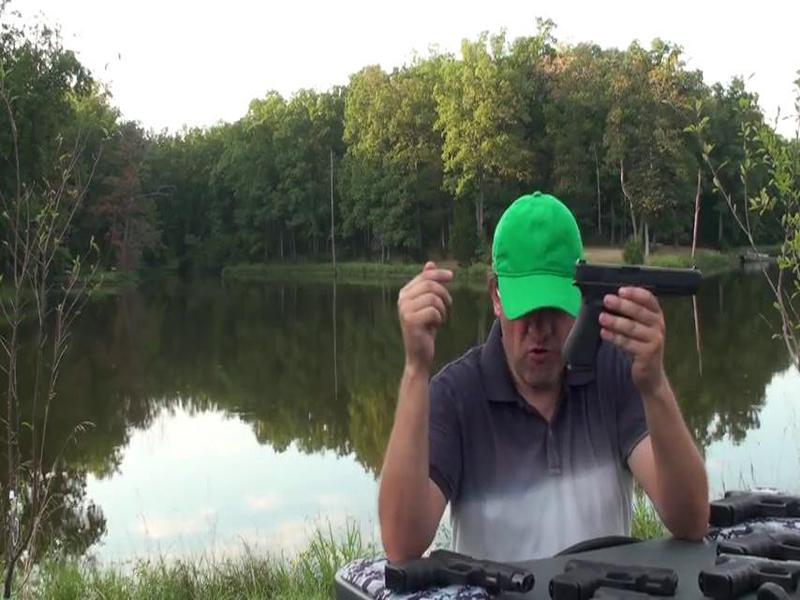Pistola: (561, 238, 711, 375), (383, 533, 534, 598), (549, 550, 678, 600)
